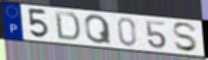0: (116, 17, 138, 48)
5: (27, 7, 51, 40), (144, 19, 168, 50)
D: (54, 10, 82, 43)
Q: (83, 14, 113, 45)
S: (171, 22, 200, 53)
